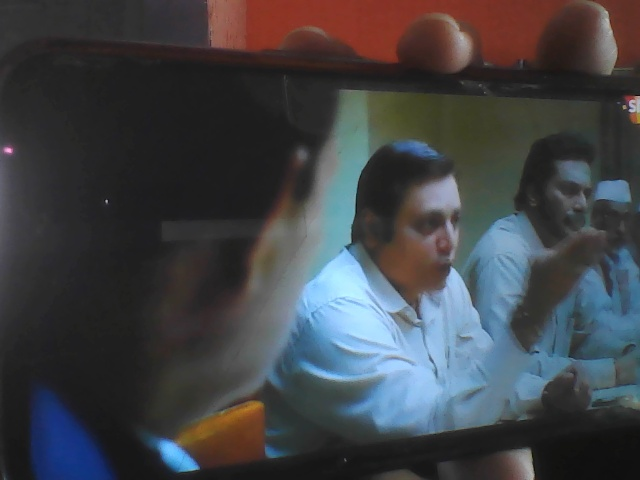fake: (367, 142, 476, 296)
